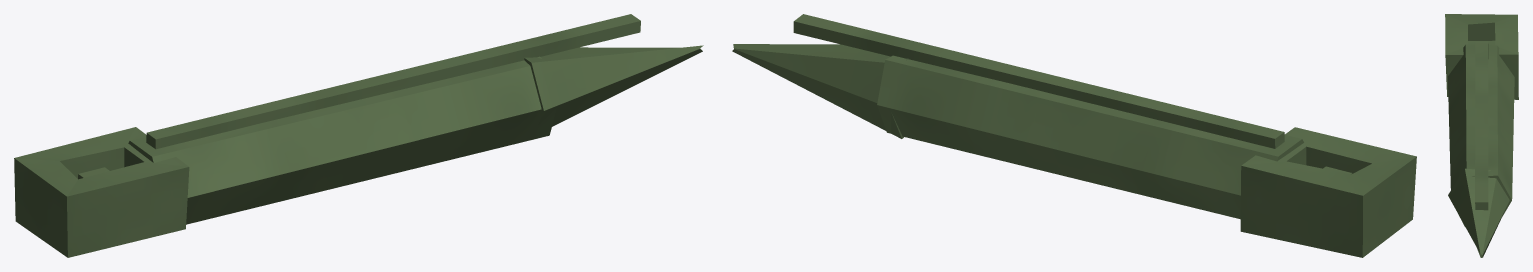
The model's file is needle_uncommon.glb.
3 renders of one model, left to right at view 1: azimuth 30°, elevation 25°; view 2: azimuth 150°, elevation 25°; view 3: azimuth 270°, elevation 25°, orthographic. The views are drawn at different scales.
Visible parts, largest first — view 1: NeedleUncommon; view 2: NeedleUncommon; view 3: NeedleUncommon.
Part boxes in pixels (bbox=[...]): NeedleUncommon: bbox=[14, 14, 703, 257]; NeedleUncommon: bbox=[732, 14, 1416, 257]; NeedleUncommon: bbox=[1445, 14, 1518, 257].
Size of the model in its own units: 0.3368 by 0.0416 by 0.0477.
Materials: 1 (1 with a texture image).
